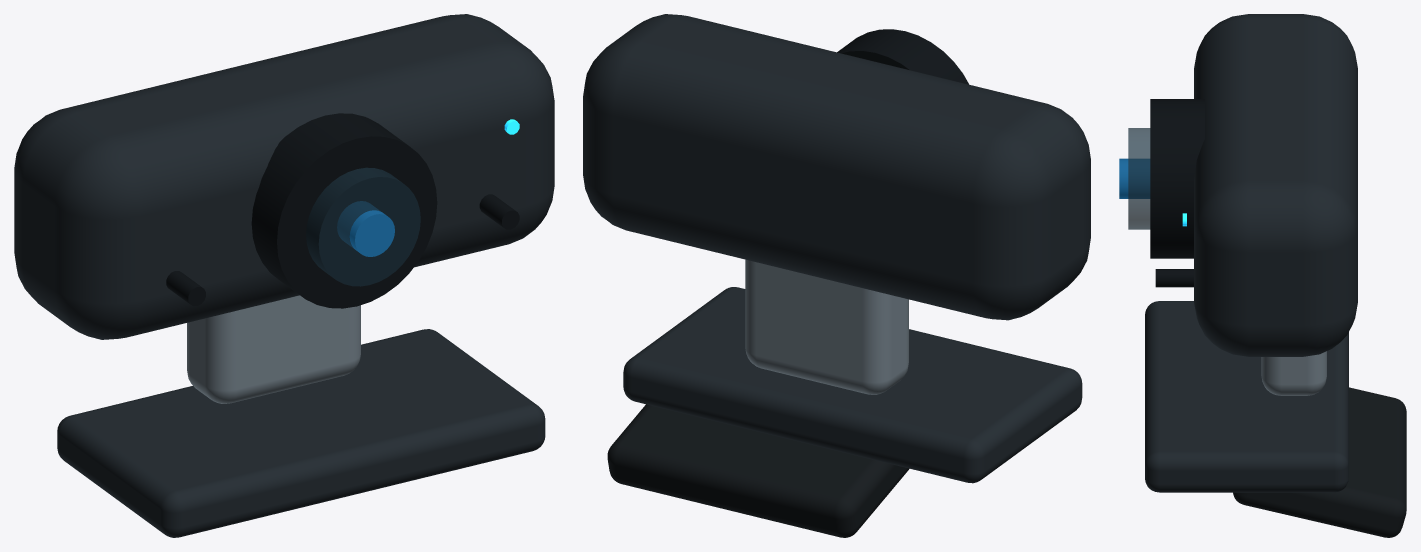
The model's file is webcam.glb.
The picture shows the model from 3 angles, left to right: view 1: azimuth 30°, elevation 25°; view 2: azimuth 150°, elevation 25°; view 3: azimuth 270°, elevation 25°; orthographic projection. The views are drawn at different scales.
Visible parts, largest first — view 1: Webcam body, Monitor clip, Camera bezel, Tilt hinge, 4K lens, Lens element, Stereo microphone (×2); view 2: Webcam body, Monitor clip, Adjustable lower jaw, Tilt hinge, Camera bezel; view 3: Webcam body, Monitor clip, Adjustable lower jaw, Camera bezel, Tilt hinge, 4K lens, Lens element, Stereo microphone.
Part boxes in pixels (x1=…): Webcam body: x1=14, y1=14, x2=554, y2=339; Monitor clip: x1=57, y1=329, x2=545, y2=537; Camera bezel: x1=251, y1=113, x2=437, y2=308; Tilt hinge: x1=187, y1=295, x2=360, y2=403; 4K lens: x1=306, y1=167, x2=420, y2=286; Lens element: x1=337, y1=201, x2=394, y2=256; Stereo microphone (×2): x1=166, y1=194, x2=519, y2=306; Webcam body: x1=583, y1=14, x2=1090, y2=320; Monitor clip: x1=623, y1=287, x2=1082, y2=483; Adjustable lower jaw: x1=607, y1=404, x2=909, y2=537; Tilt hinge: x1=745, y1=259, x2=908, y2=394; Camera bezel: x1=837, y1=29, x2=968, y2=84; Webcam body: x1=1194, y1=14, x2=1357, y2=356; Monitor clip: x1=1145, y1=301, x2=1348, y2=492; Adjustable lower jaw: x1=1233, y1=387, x2=1406, y2=537; Camera bezel: x1=1150, y1=99, x2=1204, y2=258; Tilt hinge: x1=1261, y1=351, x2=1326, y2=395; 4K lens: x1=1128, y1=128, x2=1150, y2=229; Lens element: x1=1119, y1=158, x2=1149, y2=198; Stereo microphone: x1=1155, y1=269, x2=1193, y2=287.
Bounding box in the file's own units: 1.35 × 1.12 × 0.7886.
